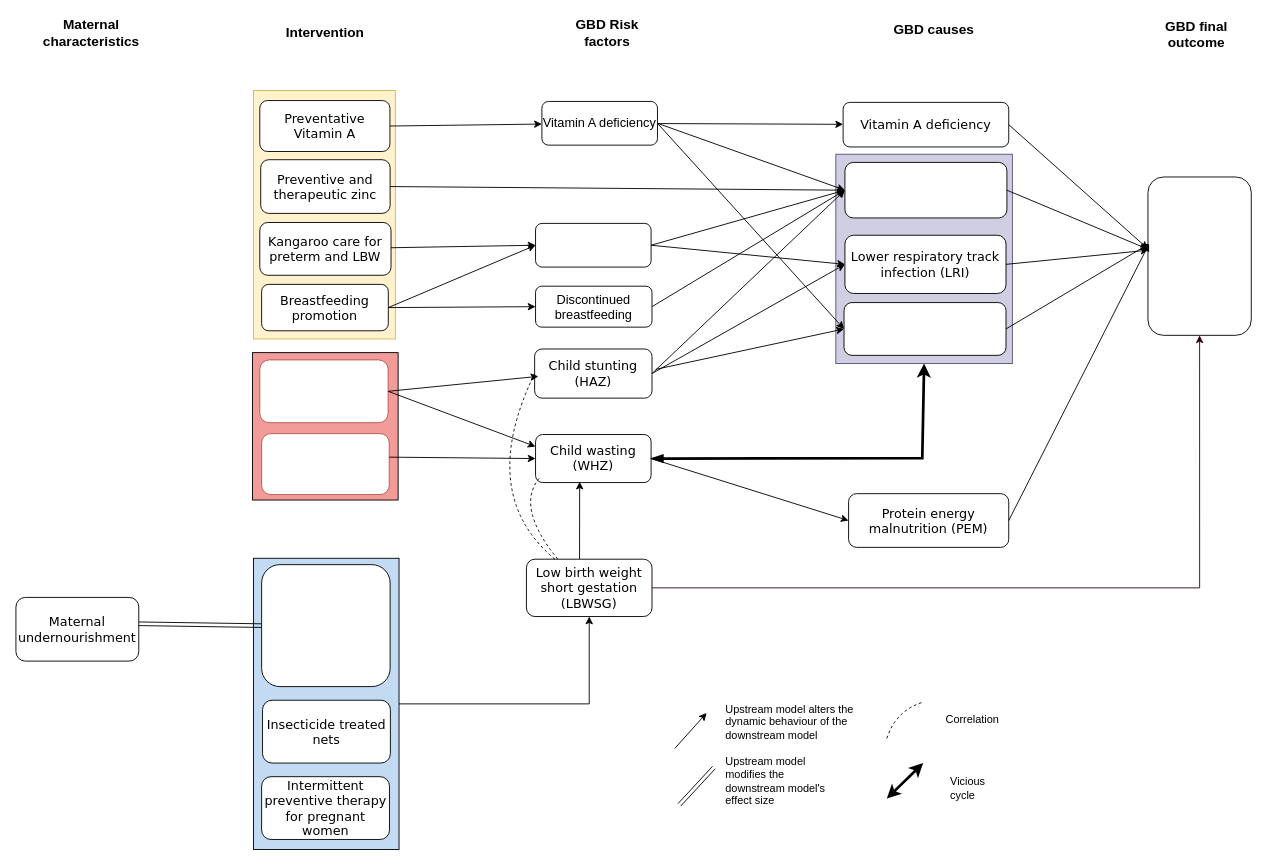
The diagram is 1268 pixels wide and 865 high, and some of its shapes have lost their labels. The shapes that lost their labels are listed below. From the top down, each one's centre as x and y in pixels, then its label:
At point (925, 190): "Diarrhea diseases".
At point (593, 244): "Non-exclusive breastfeeding".
At point (1199, 255): "Under 5 mortality and morbidity".
At point (924, 328): "Measles".
At point (323, 391): "Direct wasting prevention".
At point (325, 464): "Acute malnutrition management".
At point (325, 625): "Targeted-balanced energy protein and universal MMS antenatal supplementation".
